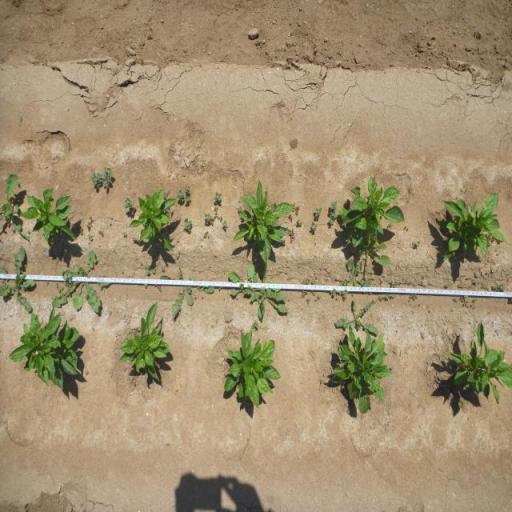plant: (7, 305, 87, 397), (442, 320, 512, 407), (329, 327, 391, 420), (220, 327, 282, 412), (232, 178, 294, 262), (338, 173, 406, 249), (434, 190, 504, 262), (118, 299, 173, 387), (19, 185, 80, 249), (130, 188, 179, 257)
weed: (227, 253, 290, 322), (50, 250, 114, 312), (157, 266, 215, 320), (0, 245, 38, 311), (0, 172, 31, 243), (332, 298, 379, 338), (359, 238, 391, 287), (339, 257, 364, 286), (90, 166, 114, 188), (300, 278, 316, 298), (122, 196, 135, 217), (210, 204, 222, 226), (287, 226, 295, 244), (143, 264, 156, 275), (329, 198, 339, 212), (328, 212, 337, 226), (214, 190, 223, 204), (85, 216, 94, 230), (492, 284, 506, 292), (204, 212, 212, 226), (460, 296, 470, 307), (292, 202, 300, 214), (342, 289, 349, 302), (310, 221, 318, 232), (329, 289, 341, 296), (315, 206, 323, 216), (184, 218, 192, 228), (178, 189, 184, 202), (222, 220, 228, 232), (252, 320, 260, 329), (203, 230, 210, 240), (184, 194, 191, 204), (412, 241, 420, 249), (184, 184, 191, 193), (297, 218, 304, 226), (408, 294, 417, 300), (288, 214, 293, 224), (384, 294, 390, 302), (444, 282, 451, 288), (391, 280, 397, 287), (122, 230, 127, 238), (390, 292, 396, 298), (87, 235, 93, 241), (378, 295, 383, 302), (452, 298, 458, 303), (372, 298, 377, 304), (237, 206, 242, 212), (306, 298, 311, 304), (380, 278, 385, 283), (388, 222, 393, 227), (317, 294, 322, 298), (162, 268, 165, 272), (320, 380, 323, 384), (132, 238, 136, 240)
